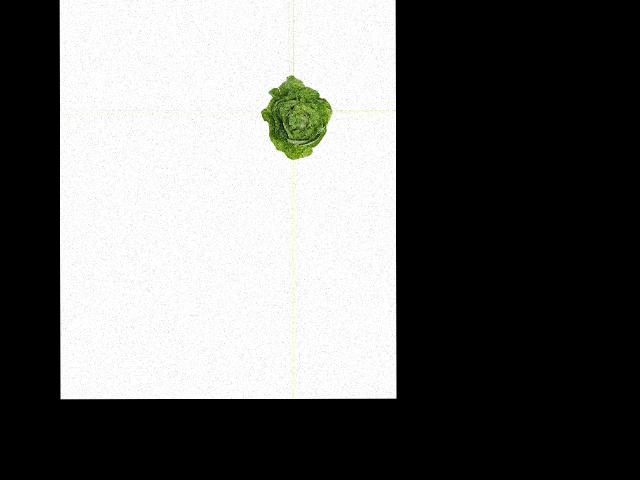lettuce: (261, 77, 331, 160)
